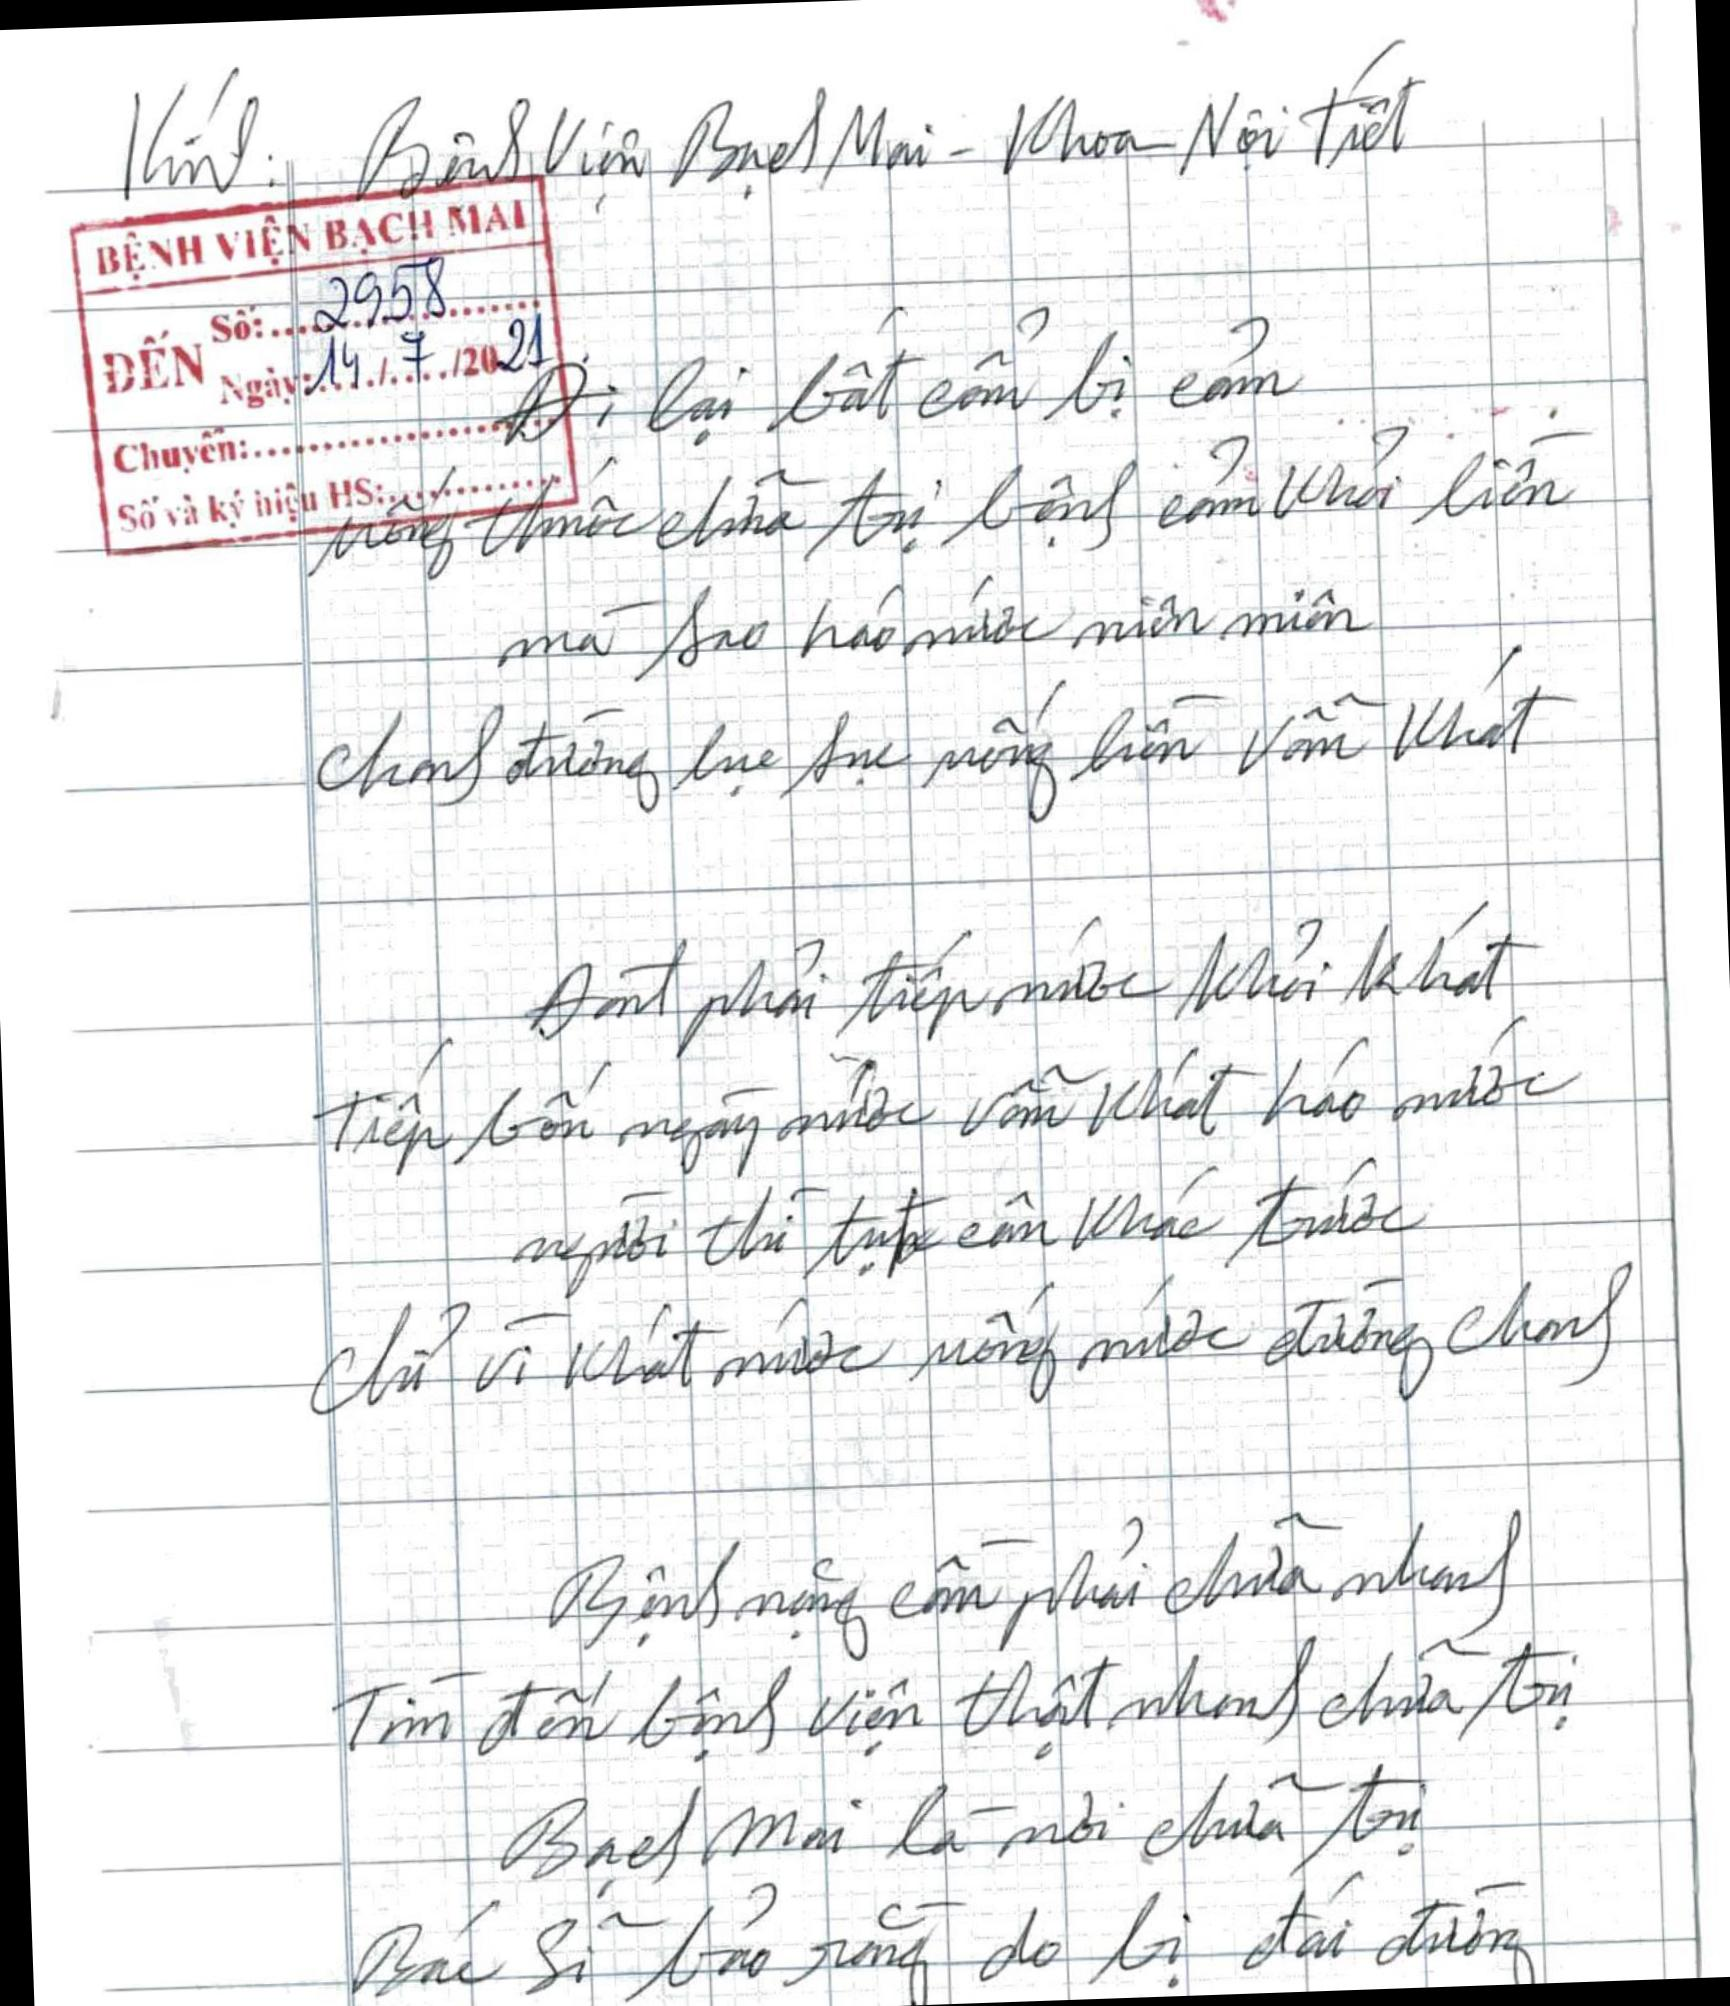text: (311, 635, 1590, 851), (302, 989, 1595, 1199), (295, 1254, 1650, 1448), (107, 32, 1435, 230), (283, 411, 1607, 587), (326, 1624, 1587, 1788), (510, 890, 1549, 1073), (340, 1852, 1542, 2006), (534, 1498, 1529, 1673), (500, 1143, 1447, 1305), (491, 1754, 1440, 1912), (476, 283, 1314, 455), (486, 558, 1379, 694), (90, 184, 534, 281), (213, 302, 551, 413), (113, 466, 391, 539), (304, 251, 457, 331), (107, 409, 251, 479), (94, 326, 208, 404), (201, 297, 268, 350)
